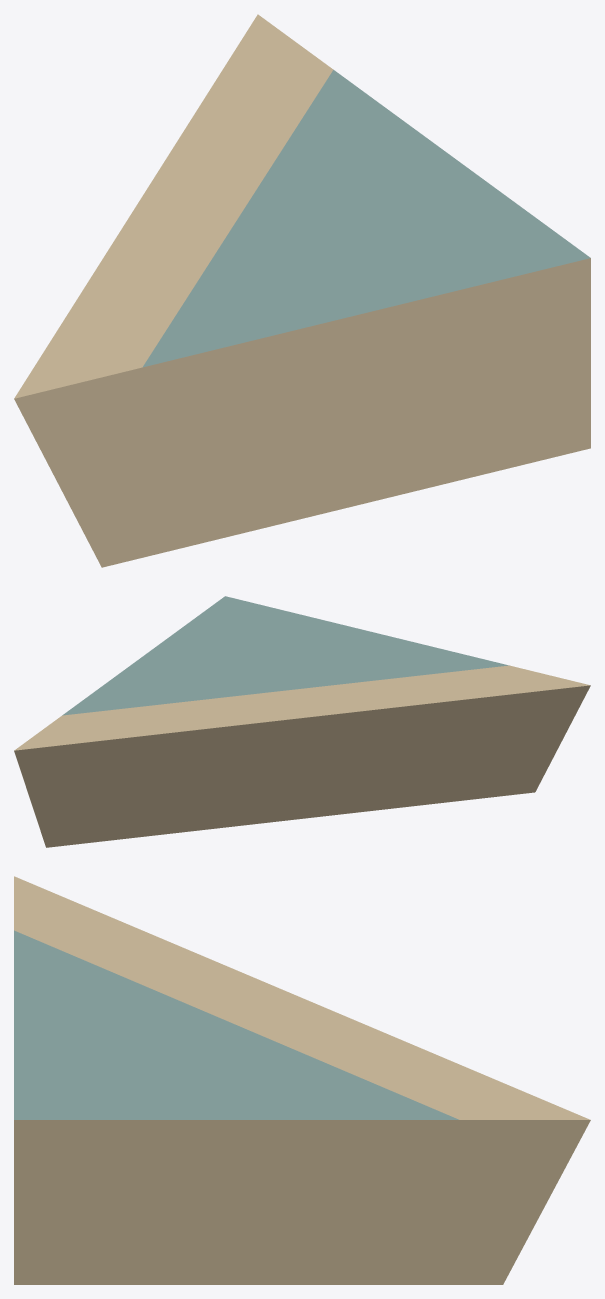
File: naturePack_115.gltf
3 renders of one model, top to bottom at view 1: azimuth 30°, elevation 25°; view 2: azimuth 150°, elevation 25°; view 3: azimuth 270°, elevation 25°, orthographic. The views are drawn at different scales.
Parts seen in each view (by area): view 1: Mesh1 Brown_Cliff_Top_Corner Model; view 2: Mesh1 Brown_Cliff_Top_Corner Model; view 3: Mesh1 Brown_Cliff_Top_Corner Model.
Boxes of the visible parts, x1,y1,x2,y2 form: Mesh1 Brown_Cliff_Top_Corner Model: (14,14,590,567); Mesh1 Brown_Cliff_Top_Corner Model: (14,596,590,847); Mesh1 Brown_Cliff_Top_Corner Model: (14,876,590,1284).
Size of the model in its own units: 0.92 by 0.29 by 0.92.
